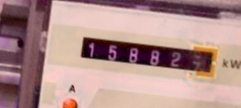1: (85, 41, 96, 57)
2: (169, 50, 181, 68)
5: (106, 43, 118, 60)
7: (190, 59, 201, 71)
8: (148, 48, 160, 66), (127, 47, 139, 64)
screen: (72, 27, 224, 84)
